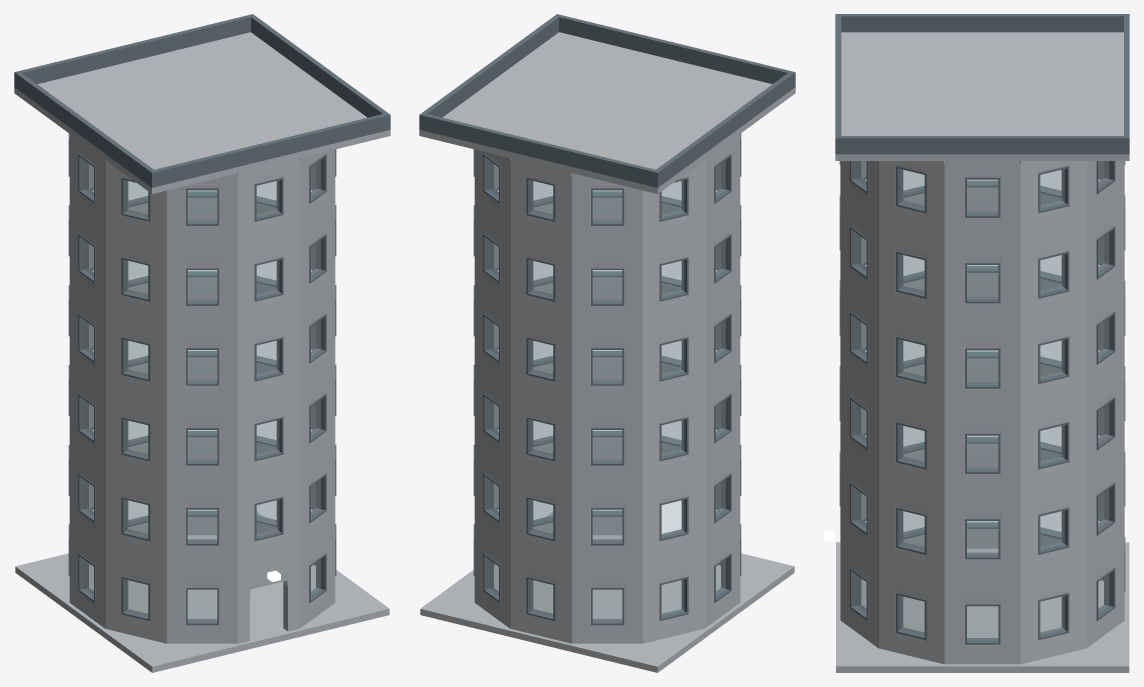
File: tower_6_lod0.glb
3 views of the same model, side by side, from view 1: azimuth 30°, elevation 25°; view 2: azimuth 150°, elevation 25°; view 3: azimuth 270°, elevation 25° (orthographic). The views are drawn at different scales.
Parts seen in each view (by area): view 1: Ceiling baked, Wall_11 baked, Wall_0 baked, Wall_10 baked, Wall_9 baked, Wall_1 baked, Floor baked, Parapet baked, Parapet.002 baked, Wall_5 baked, Parapet.001 baked, Parapet.003 baked (+21 smaller); view 2: Ceiling baked, Wall_7 baked, Wall_6 baked, Wall_8 baked, Wall_9 baked, Wall_5 baked, Floor baked, Parapet.002 baked, Parapet baked, Wall_1 baked, Parapet.001 baked, Parapet.003 baked (+22 smaller); view 3: Ceiling baked, Wall_3 baked, Wall_4 baked, Wall_2 baked, Wall_5 baked, Wall_1 baked, Floor baked, Parapet.001 baked, Parapet.003 baked, Wall_9 baked, Glazing.017 baked, Glazing.020 baked (+23 smaller).
Part boxes in pixels (x1,y1,x2,y2): Ceiling baked: [14, 32, 390, 193]; Wall_11 baked: [167, 173, 237, 643]; Wall_0 baked: [237, 158, 299, 643]; Wall_10 baked: [105, 160, 166, 643]; Wall_9 baked: [69, 134, 105, 628]; Wall_1 baked: [299, 149, 335, 628]; Floor baked: [15, 512, 389, 672]; Parapet baked: [149, 113, 390, 187]; Parapet.002 baked: [14, 14, 254, 88]; Wall_5 baked: [187, 197, 217, 535]; Parapet.001 baked: [17, 73, 153, 185]; Parapet.003 baked: [251, 16, 387, 117]; Ceiling baked: [419, 32, 795, 193]; Wall_7 baked: [572, 173, 642, 643]; Wall_6 baked: [510, 158, 572, 643]; Wall_8 baked: [643, 160, 704, 643]; Wall_9 baked: [704, 134, 740, 628]; Wall_5 baked: [474, 149, 510, 628]; Floor baked: [420, 512, 794, 672]; Parapet.002 baked: [419, 113, 660, 187]; Parapet baked: [555, 14, 795, 88]; Wall_1 baked: [592, 197, 622, 535]; Parapet.001 baked: [656, 73, 792, 185]; Parapet.003 baked: [422, 16, 558, 117]; Ceiling baked: [835, 32, 1129, 160]; Wall_3 baked: [944, 161, 1020, 664]; Wall_4 baked: [1020, 161, 1086, 664]; Wall_2 baked: [878, 161, 944, 664]; Wall_5 baked: [1086, 161, 1124, 647]; Wall_1 baked: [840, 161, 878, 647]; Floor baked: [836, 542, 1129, 672]; Parapet.001 baked: [841, 14, 1123, 32]; Parapet.003 baked: [841, 136, 1123, 154]; Wall_9 baked: [967, 187, 998, 548]; Glazing.017 baked: [967, 606, 997, 640]; Glazing.020 baked: [967, 350, 997, 384].
Size of the model in its own units: 10 by 20.05 by 10.38.
